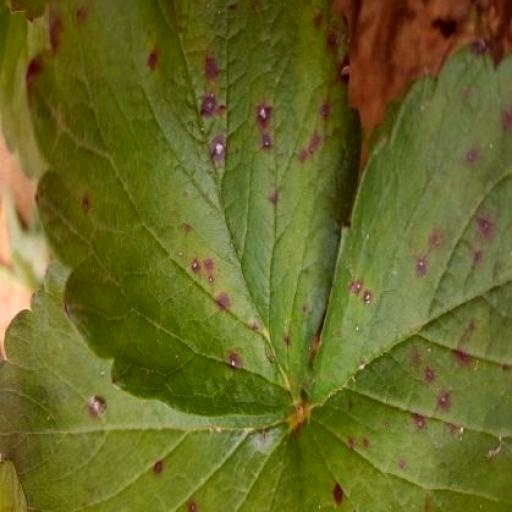Leaf Spot: (24, 93, 362, 511), (297, 0, 511, 474), (0, 0, 303, 251)
